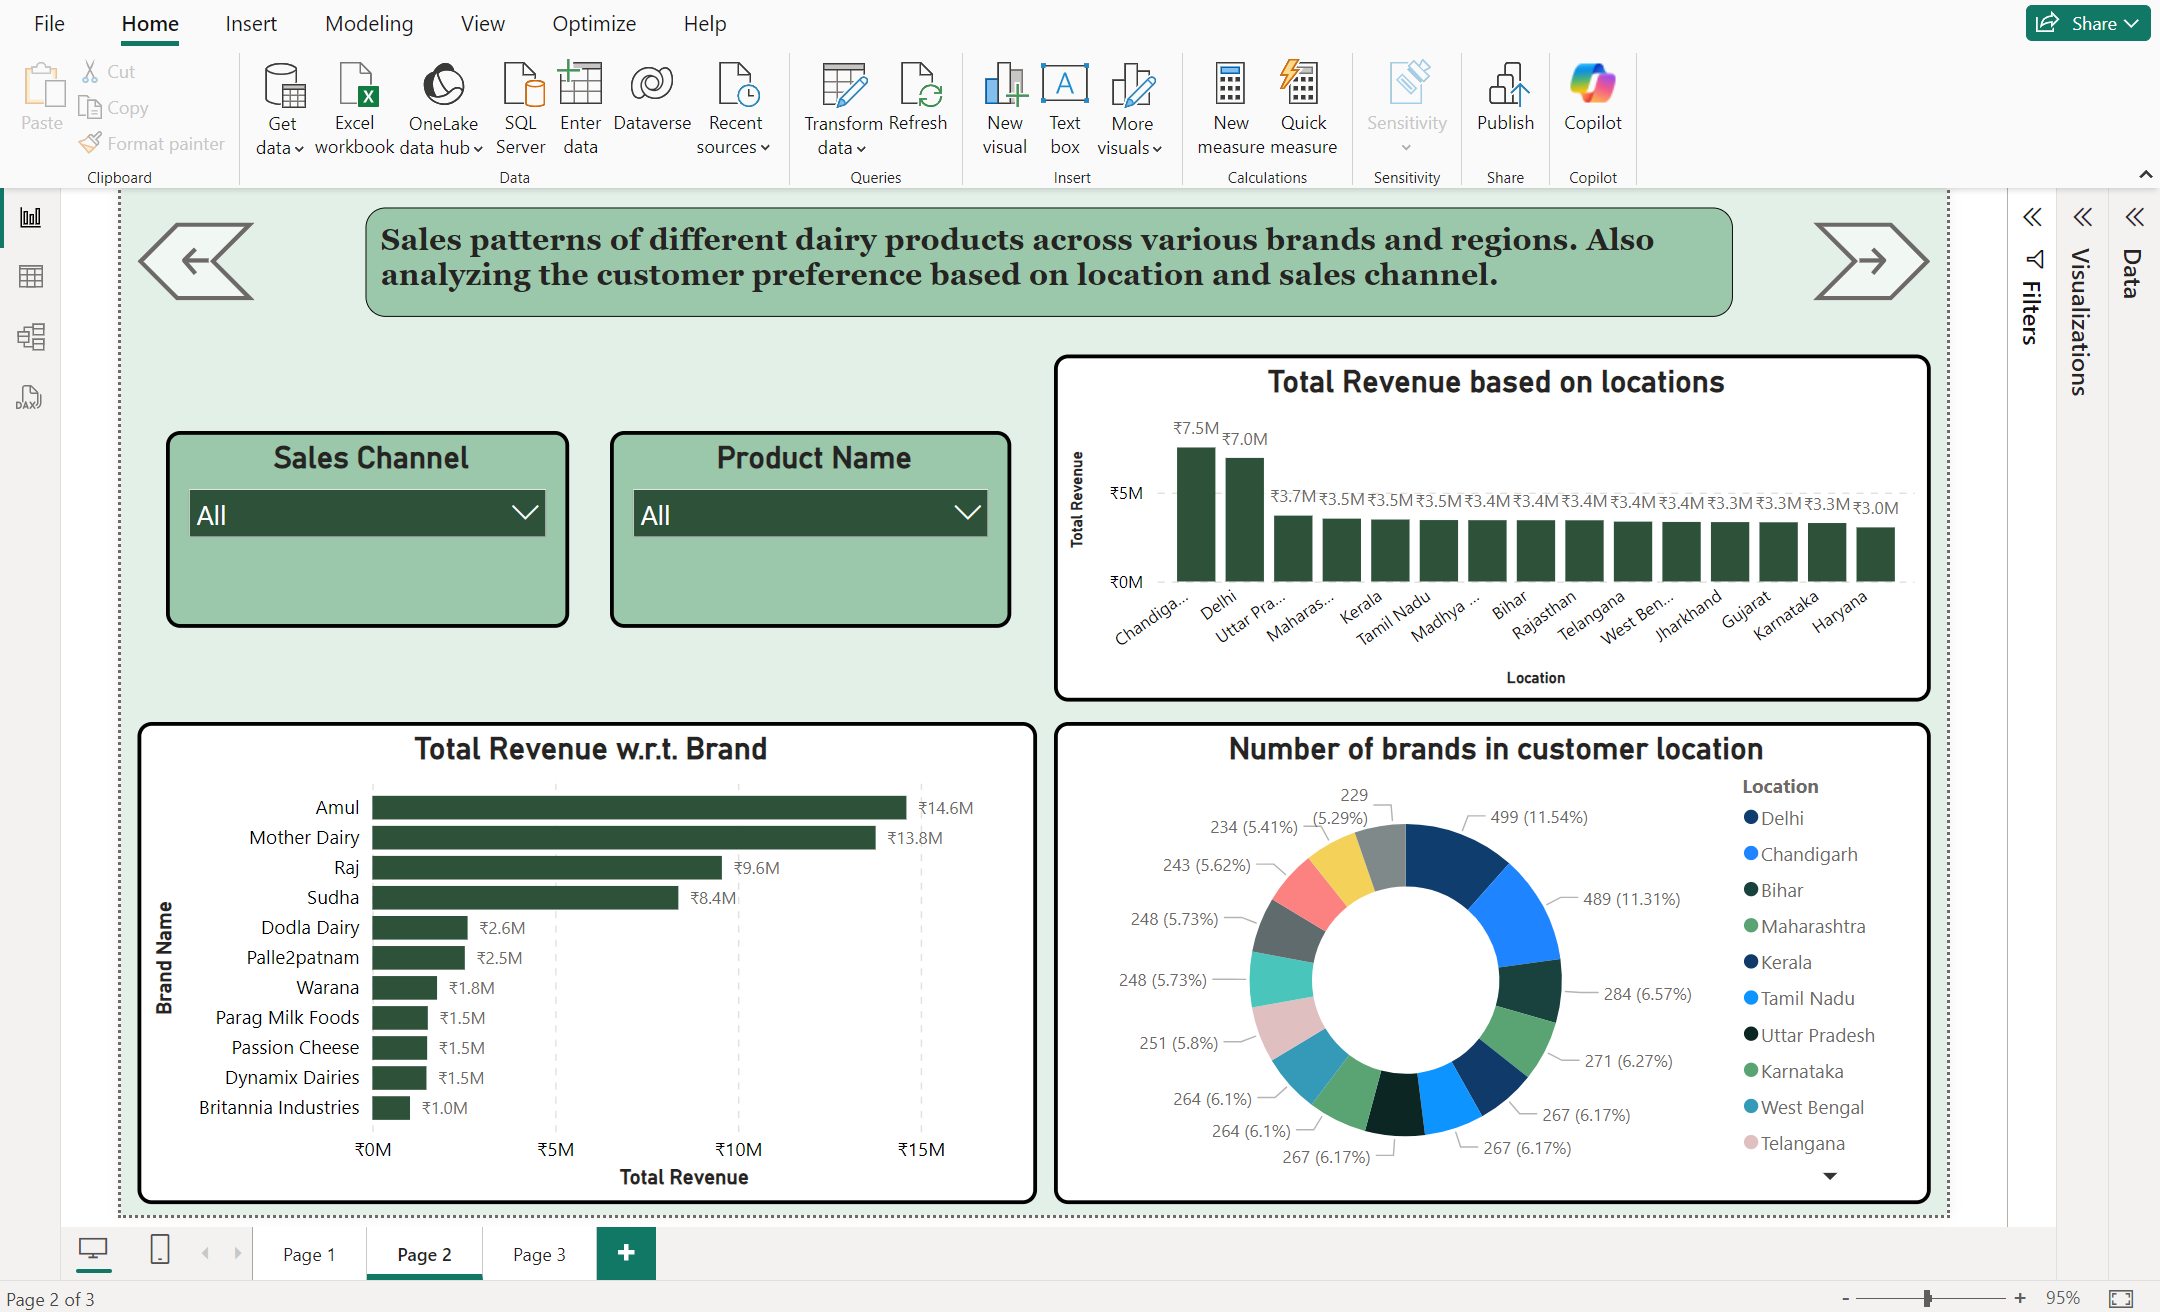

This screenshot's page, from the dashboard's own definition file:
{"tool":"powerbi","page":{"name":"Page 2","canvas":[1280,720],"ordinal":1},"visuals":[{"type":"clusteredColumnChart","title":"Total Revenue based on locations","fields":{"Category":["dairy_data.Location"],"Y":["Sum(dairy_data.Approx. Total Revenue(INR))"]},"box":[653.7,116.7,614.8,243.5],"z":0},{"type":"donutChart","title":"Number of brands in customer location","fields":{"Category":["dairy_data.Customer Location"],"Y":["CountNonNull(dairy_data.Brand)"]},"box":[653.7,374.7,614.8,338],"z":1000},{"type":"slicer","title":"Sales Channel","fields":{"Values":["dairy_data.Sales Channel","dairy_data.Brand"]},"box":[31.1,170.1,282.4,137.9],"z":2000},{"type":"barChart","title":"Total Revenue w.r.t. Brand","fields":{"Category":["dairy_data.Brand"],"Y":["Sum(dairy_data.Total_Revenue)"]},"box":[11.1,374.7,630.4,338],"z":3000},{"type":"slicer","title":"Product Name","fields":{"Values":["dairy_data.Product_Name"]},"box":[342.4,170.1,281.3,137.9],"z":4000},{"type":"textbox","box":[171.2,13.3,958.3,76.7],"z":5000},{"type":"actionButton","box":[11.1,24.5,82.3,54.5],"z":6000},{"type":"actionButton","box":[1186.2,24.5,82.3,54.5],"z":7000}]}

Visuals, with their boxes on the page's 1280x720 design canvas (x1, y1, x2, y2). These are canvas units, not pixel positions in the 2160x1312 screenshot, which may show the page scaled, cropped or inside an application window:
"Total Revenue based on locations" clusteredColumnChart: 654:117:1268:360
"Number of brands in customer location" donutChart: 654:375:1268:713
"Sales Channel" slicer: 31:170:314:308
"Total Revenue w.r.t. Brand" barChart: 11:375:642:713
"Product Name" slicer: 342:170:624:308
textbox: 171:13:1130:90
actionButton: 11:24:93:79
actionButton: 1186:24:1268:79
